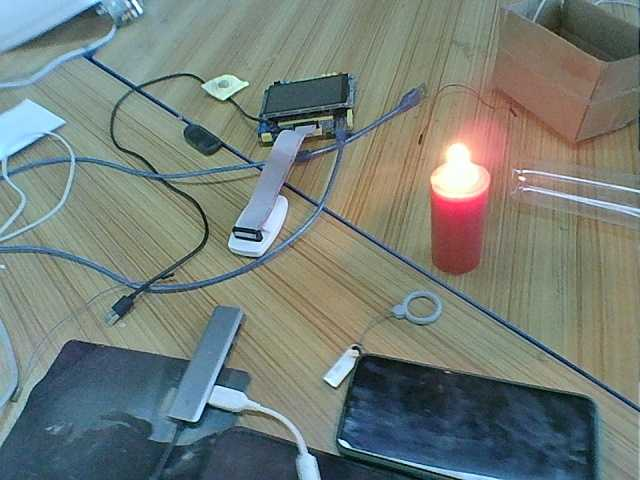candle: (433, 185, 490, 278)
fire: (434, 140, 488, 191)
